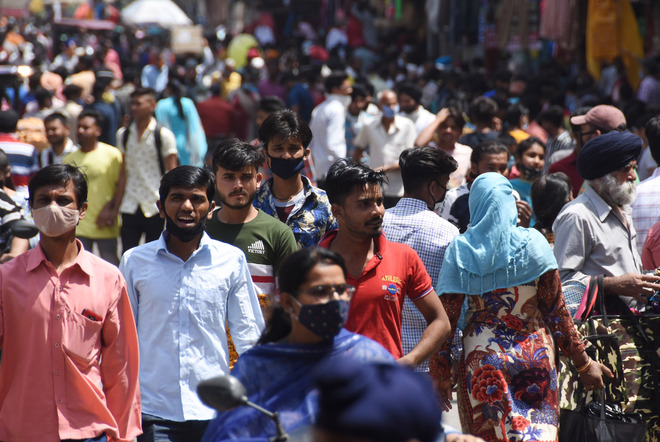with_incorrect_mask: (268, 127, 303, 175), (520, 141, 546, 178)
with_mask: (287, 263, 350, 332), (34, 181, 76, 231)
without_mask: (164, 178, 208, 230), (341, 182, 387, 229), (218, 163, 258, 206), (610, 154, 640, 206)
